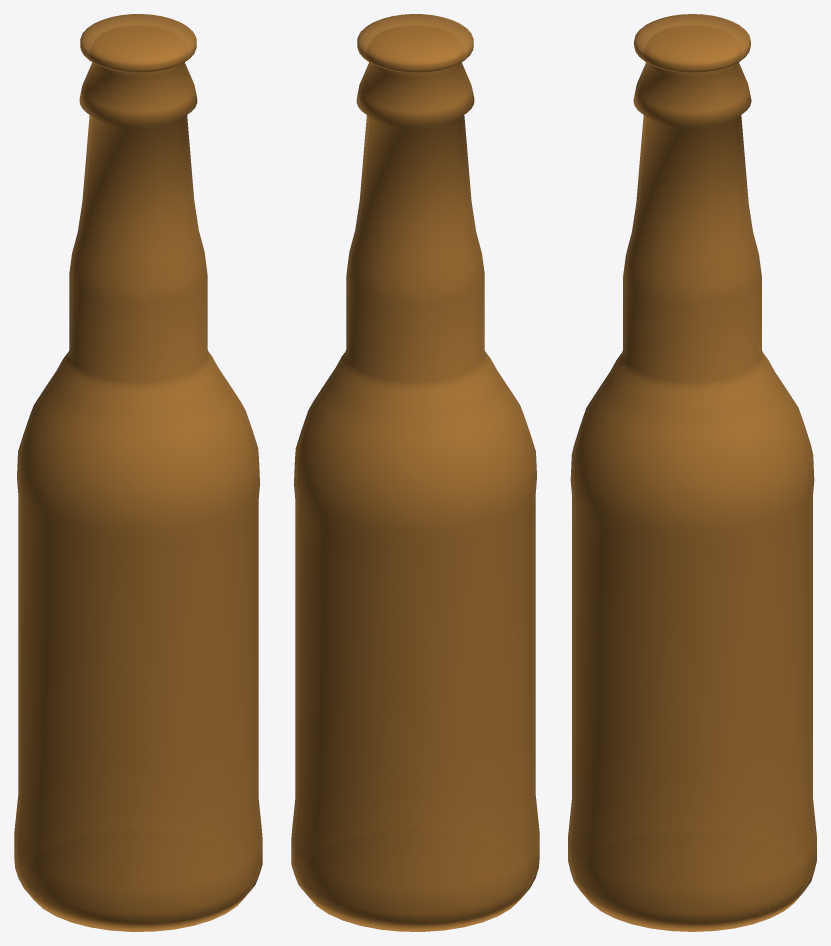
File: bearBottle5.gltf
3 views of the same model, side by side, from view 1: azimuth 30°, elevation 25°; view 2: azimuth 150°, elevation 25°; view 3: azimuth 270°, elevation 25° (orthographic).
Visible parts, largest first — view 1: Cylinder, Cylinder.001; view 2: Cylinder, Cylinder.001; view 3: Cylinder, Cylinder.001.
Boxes of the visible parts, <box> form: Cylinder: <box>14,26,262,931</box>; Cylinder.001: <box>80,14,196,72</box>; Cylinder: <box>291,26,539,931</box>; Cylinder.001: <box>357,14,473,72</box>; Cylinder: <box>568,26,816,931</box>; Cylinder.001: <box>634,14,750,72</box>.
Bounding box in the file's own units: 1.22 × 4.63 × 1.22.
